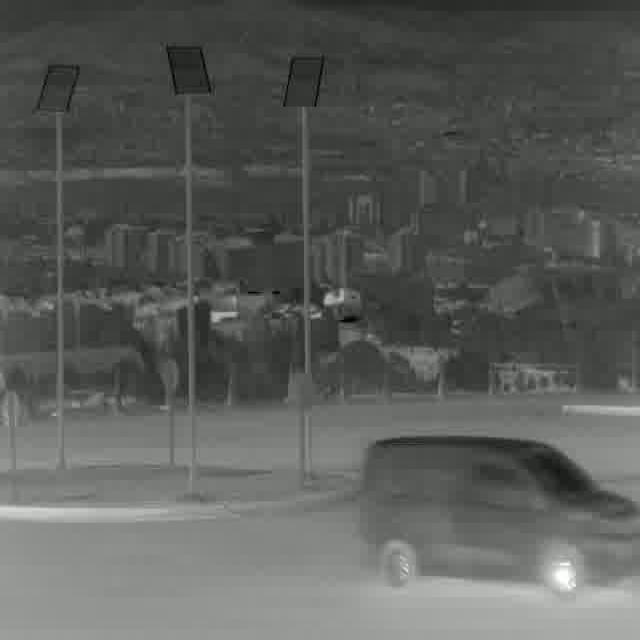Car: (359, 439, 640, 597)
